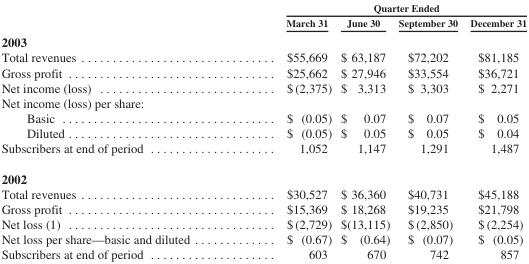table: (0, 1, 525, 261)
table column: (0, 1, 237, 261), (237, 1, 335, 261), (393, 1, 463, 261), (463, 1, 525, 261), (335, 1, 393, 261)
table column header: (0, 1, 525, 31)
table projected row header: (0, 162, 525, 185), (0, 31, 525, 49), (0, 94, 525, 110)
table row: (0, 162, 525, 185), (0, 140, 525, 162), (0, 31, 525, 49), (0, 14, 525, 31), (0, 94, 525, 110), (0, 185, 525, 201), (0, 49, 525, 64), (0, 64, 525, 79), (0, 79, 525, 94), (0, 110, 525, 125), (0, 125, 525, 140), (0, 201, 525, 216), (0, 216, 525, 231), (0, 231, 525, 246), (0, 246, 525, 261), (0, 1, 525, 14)
table spanning cell: (237, 1, 525, 14)
